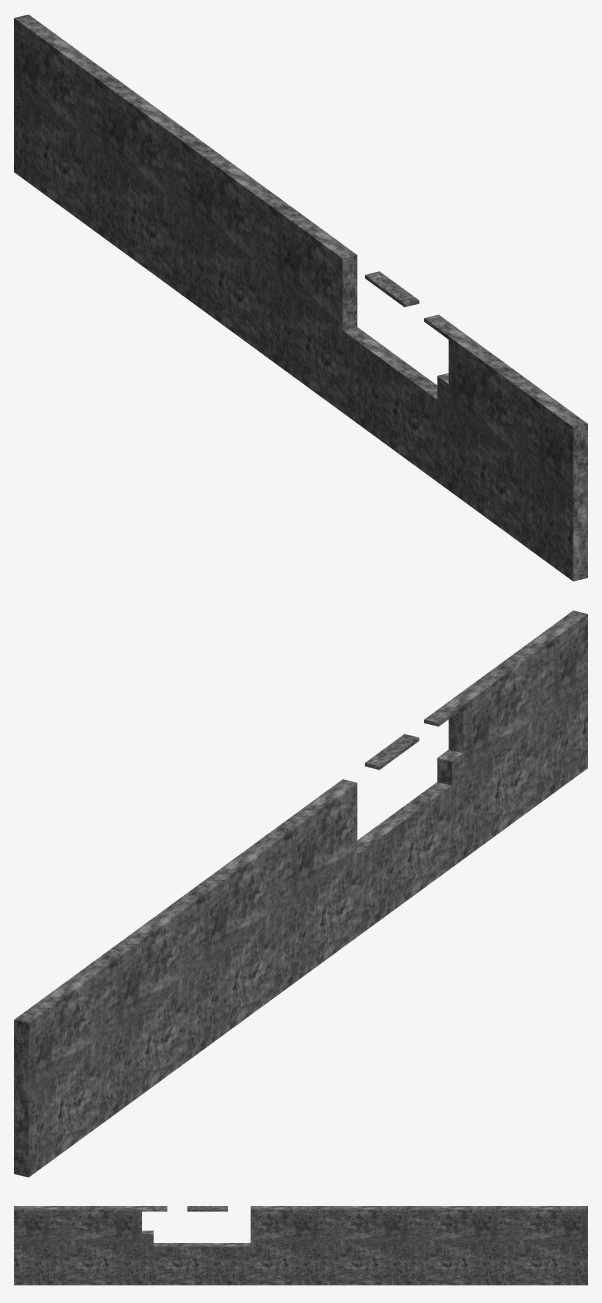
The model's file is Ground.fbx.
3 renders of one model, top to bottom at view 1: azimuth 30°, elevation 25°; view 2: azimuth 150°, elevation 25°; view 3: azimuth 270°, elevation 25°, orthographic. The views are drawn at different scales.
Parts seen in each view (by area): view 1: Ground; view 2: Ground; view 3: Ground.
Part boxes in pixels (x1=…): Ground: x1=14, y1=14, x2=587, y2=581; Ground: x1=14, y1=610, x2=587, y2=1177; Ground: x1=14, y1=1206, x2=587, y2=1285.
Size of the model in its own units: 450 by 4500 by 29600.
1 material, 1 textured.
